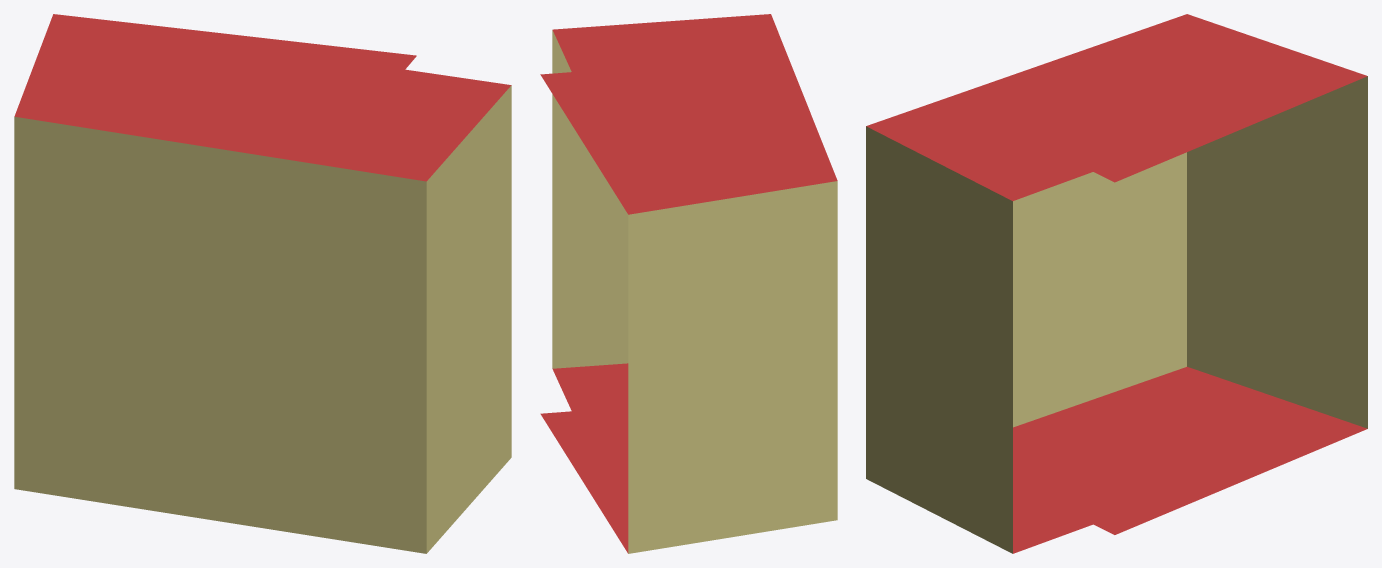
3 renders of one model, left to right at view 1: azimuth 30°, elevation 25°; view 2: azimuth 150°, elevation 25°; view 3: azimuth 270°, elevation 25°, orthographic. The views are drawn at different scales.
Parts seen in each view (by area): view 1: group_4, group_3; view 2: group_4, group_3, group_5; view 3: group_4, group_3, group_5.
Boxes of the visible parts, x1,y1,x2,y2 form: group_4: (14, 85, 511, 553); group_3: (14, 14, 511, 181); group_4: (552, 30, 837, 553); group_3: (540, 14, 837, 214); group_5: (540, 363, 628, 553); group_4: (866, 76, 1367, 553); group_3: (866, 14, 1367, 200); group_5: (1013, 367, 1367, 553).
Size of the model in its own units: 8.73 by 9.89 by 7.67.
